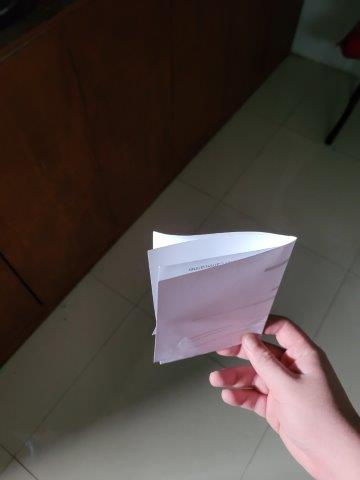kertas: (150, 231, 298, 365)
